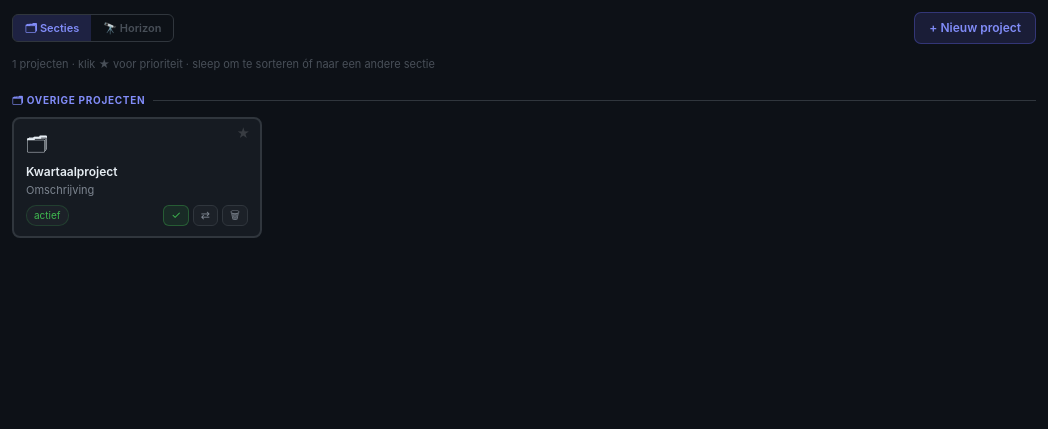
Test: ProjectsTab — horizon-weergave › groepeert een project met horizon in zijn eigen kolom — "Nog niet ingedeeld" blijft op 0 staan
Click the button "🔭 Horizon". click: (132, 28)
box: [91,15,174,41]
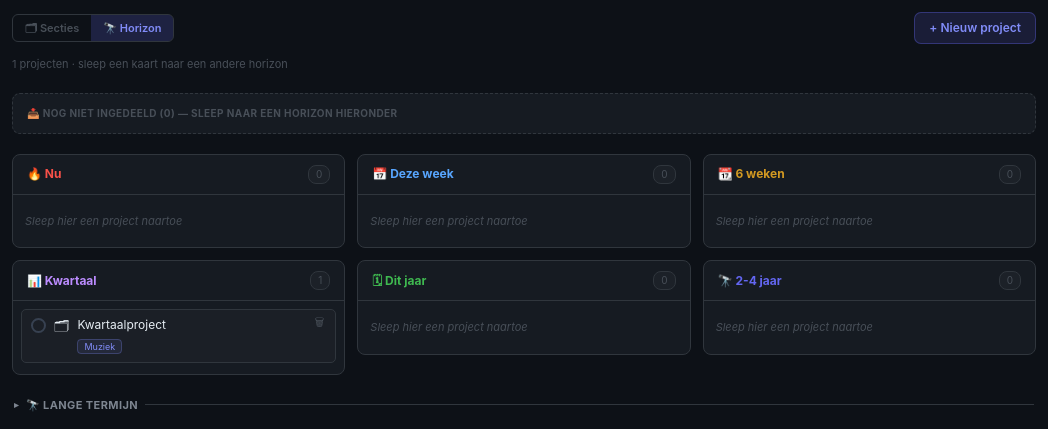
Now the element showing "📊 Kwartaal 1 🗂 Kwartaalproject Muziek 🗑" is shown, box [12,260,345,375]
Now the text "📥 Nog niet ingedeeld (0) — sleep naar een horizon hieronder" is shown, box [27,106,398,118]
